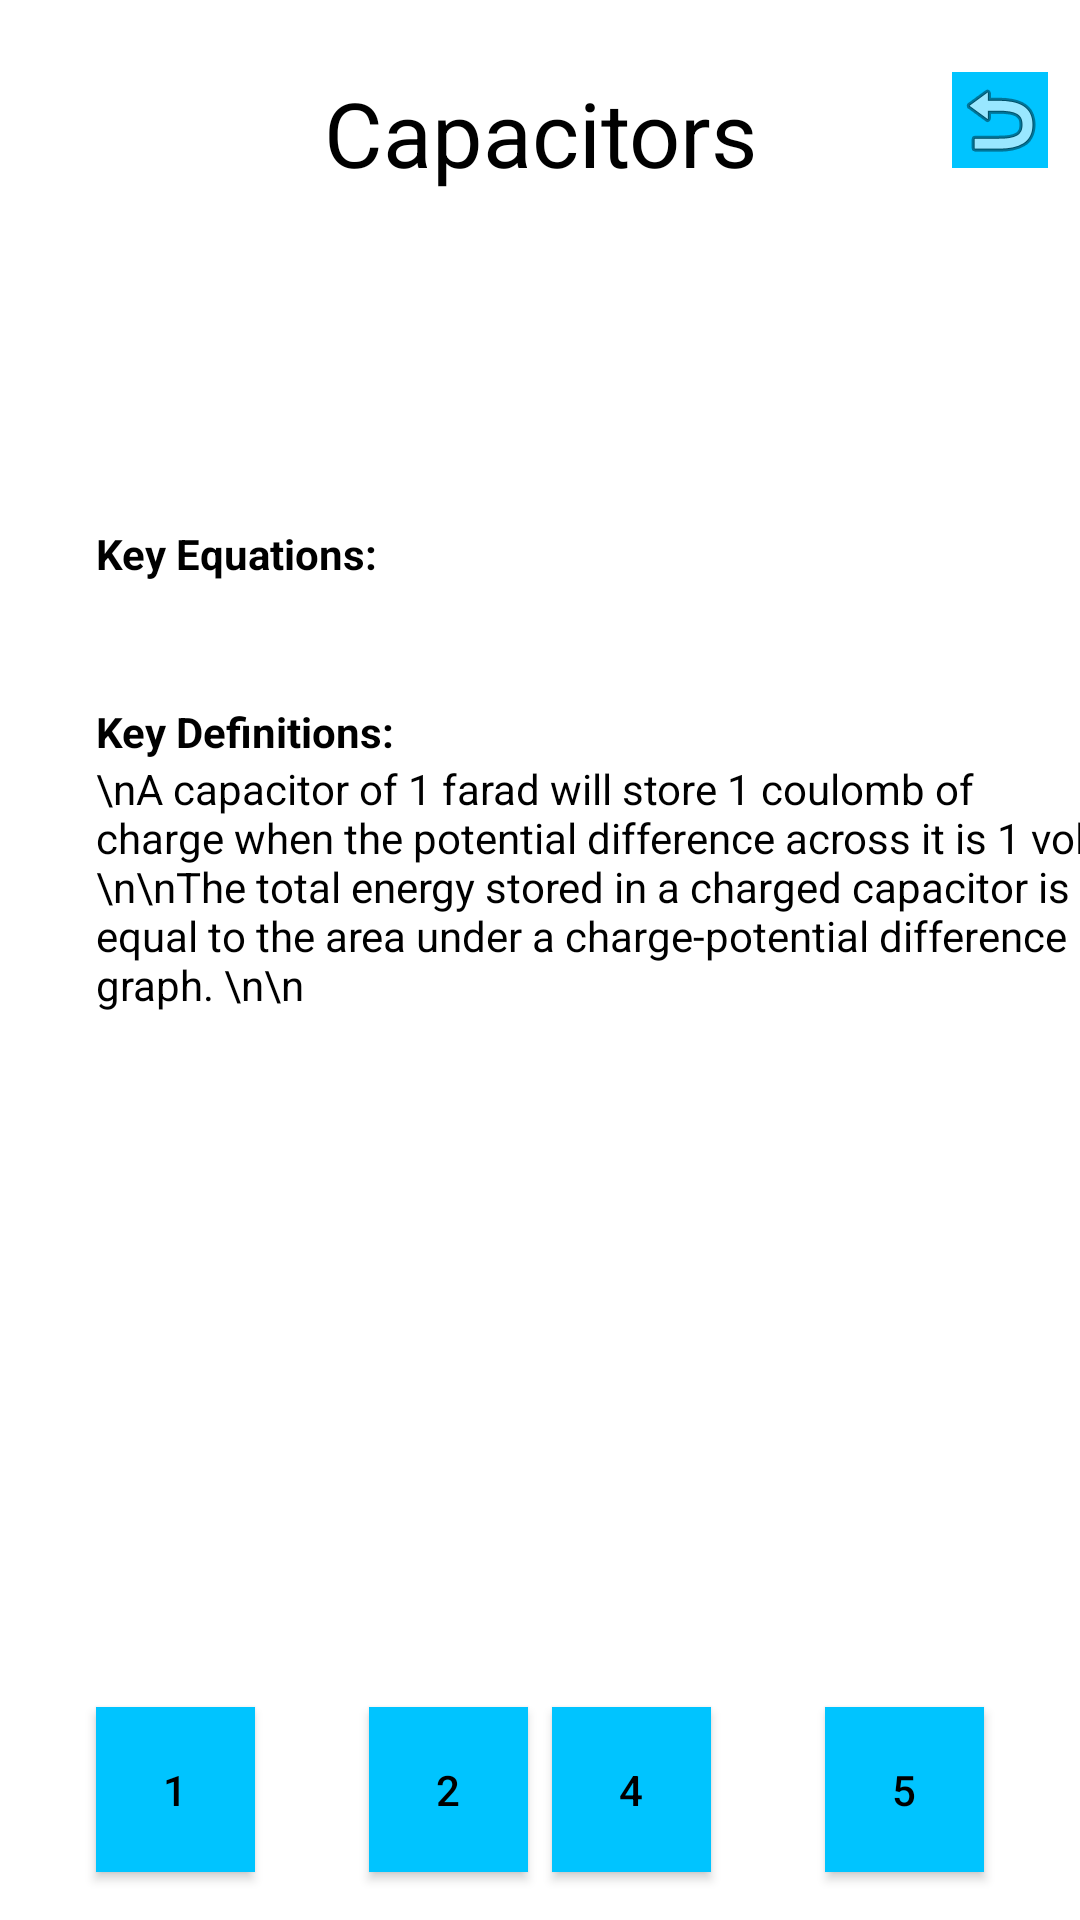

Icons on this 1080*1920 Android screen, each with the point to tap as [x,y]:
revert: [1000,120]
